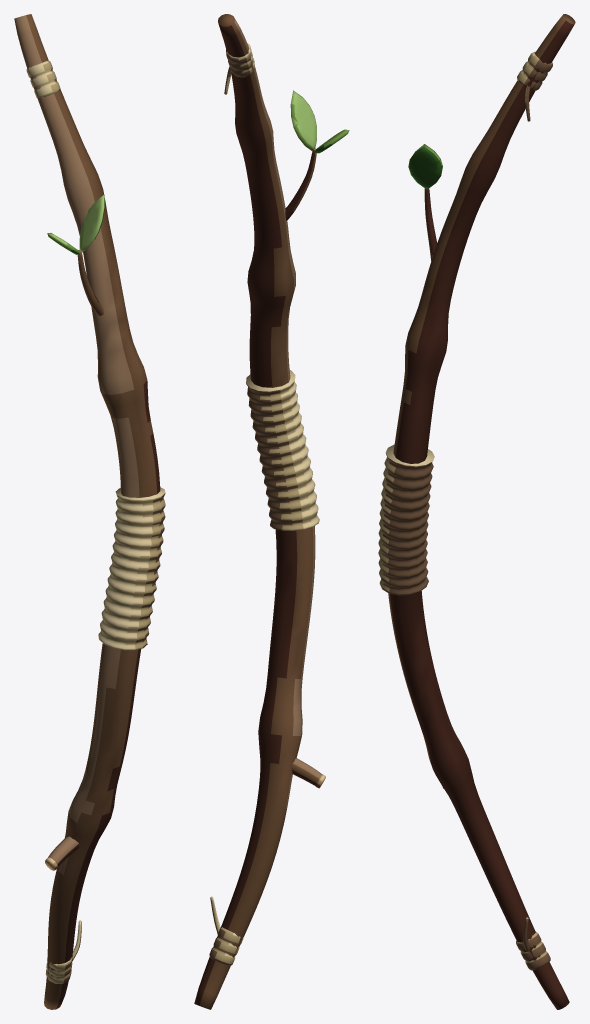
Rendered from bw_twig_bow.glb.
3 renders of one model, left to right at view 1: azimuth 30°, elevation 25°; view 2: azimuth 150°, elevation 25°; view 3: azimuth 270°, elevation 25°, orthographic. The views are drawn at different scales.
Parts seen in each view (by area): view 1: Weapon; view 2: Weapon; view 3: Weapon.
Part boxes in pixels (box(x1,y1,x2,y2)): Weapon: box(14, 14, 165, 1009); Weapon: box(194, 14, 349, 1009); Weapon: box(378, 14, 575, 1009).
Size of the model in its own units: 0.1201 by 1.07 by 0.1947.
